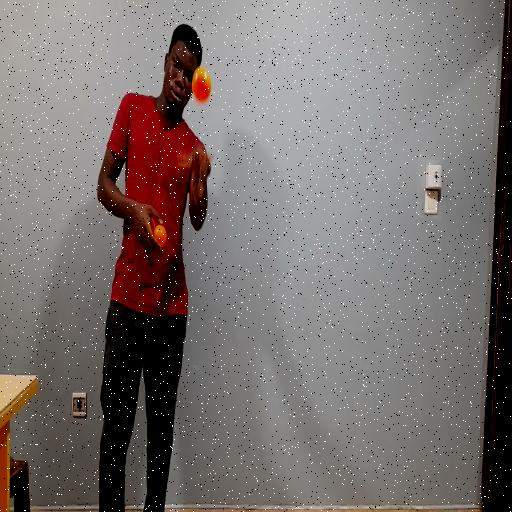plastic-ball: (191, 62, 213, 106)
